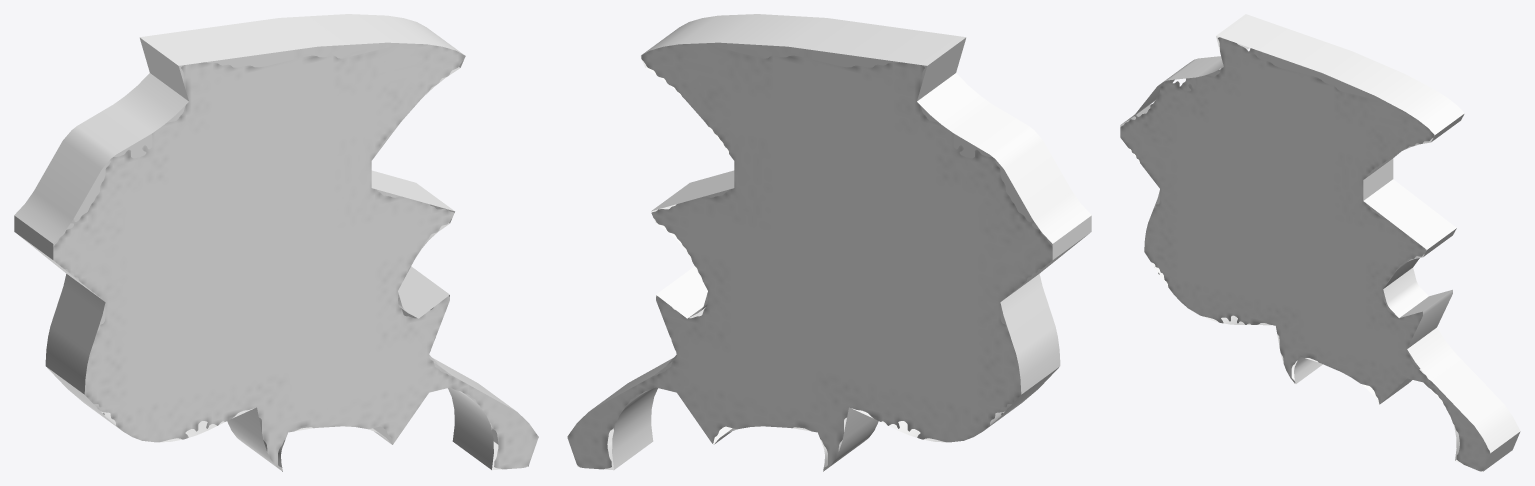
The model's file is Friuli-Venezia Giulia.obj.
3 renders of one model, left to right at view 1: azimuth 30°, elevation 25°; view 2: azimuth 150°, elevation 25°; view 3: azimuth 330°, elevation 25°, orthographic. The views are drawn at different scales.
Size of the model in its own units: 92.99 by 88.99 by 13.
Materials: 3 (3 with a texture image).
